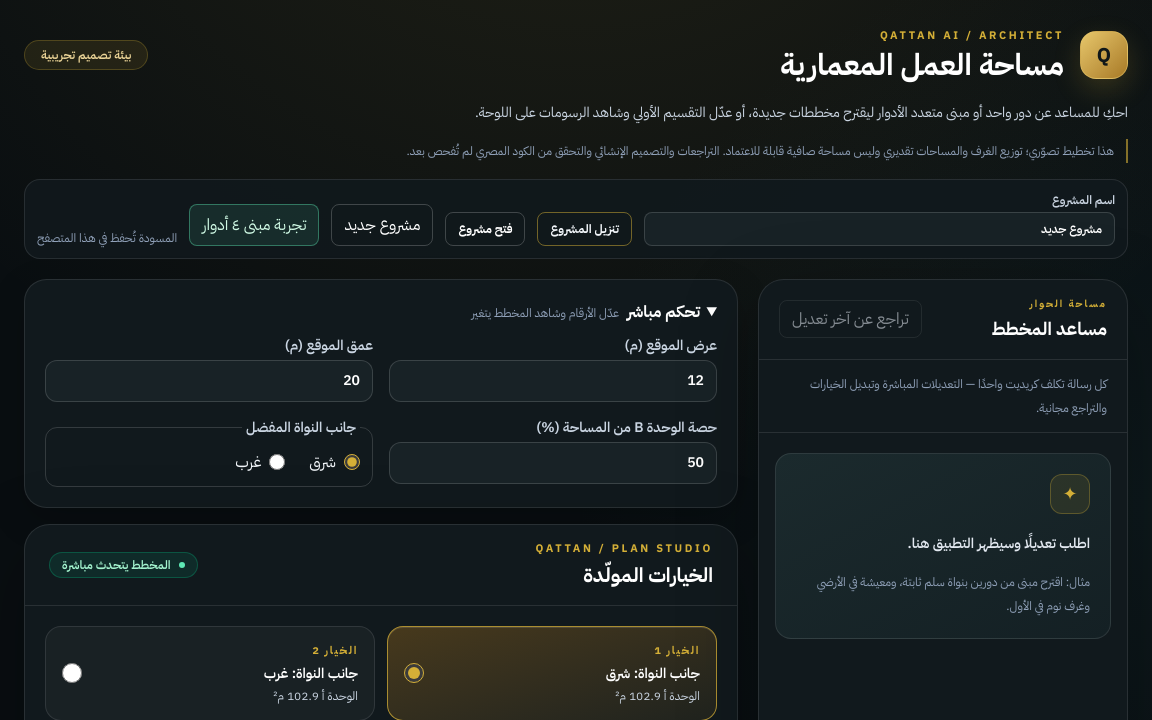
Test: ArchitectWorkspace layout and canvas › loads the four-storey reference locally and saves its checked geometry
Click the button "تجربة مبنى ٤ أدوار" at (254, 224), box [189,204,320,246]
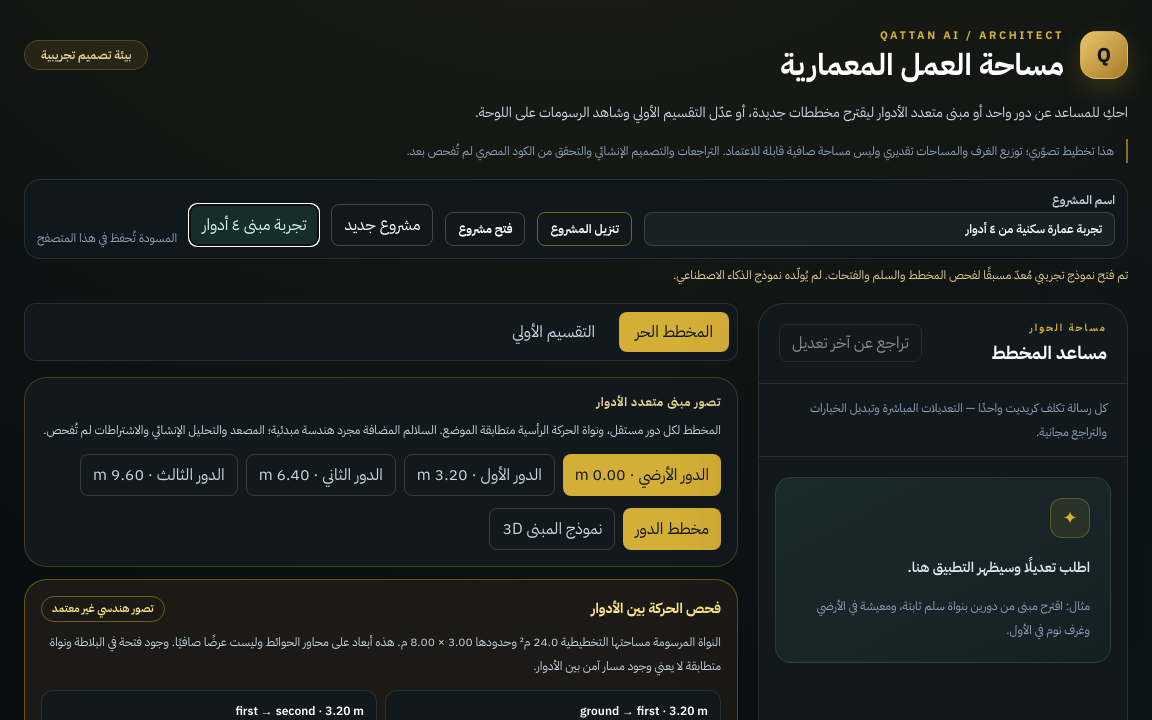
Now the heading "فحص الحركة بين الأدوار" is shown, box [591,599,721,619]
Now the text "لم يُولّده نموذج الذكاء الاصطناعي" is shown, box [673,266,1128,284]
